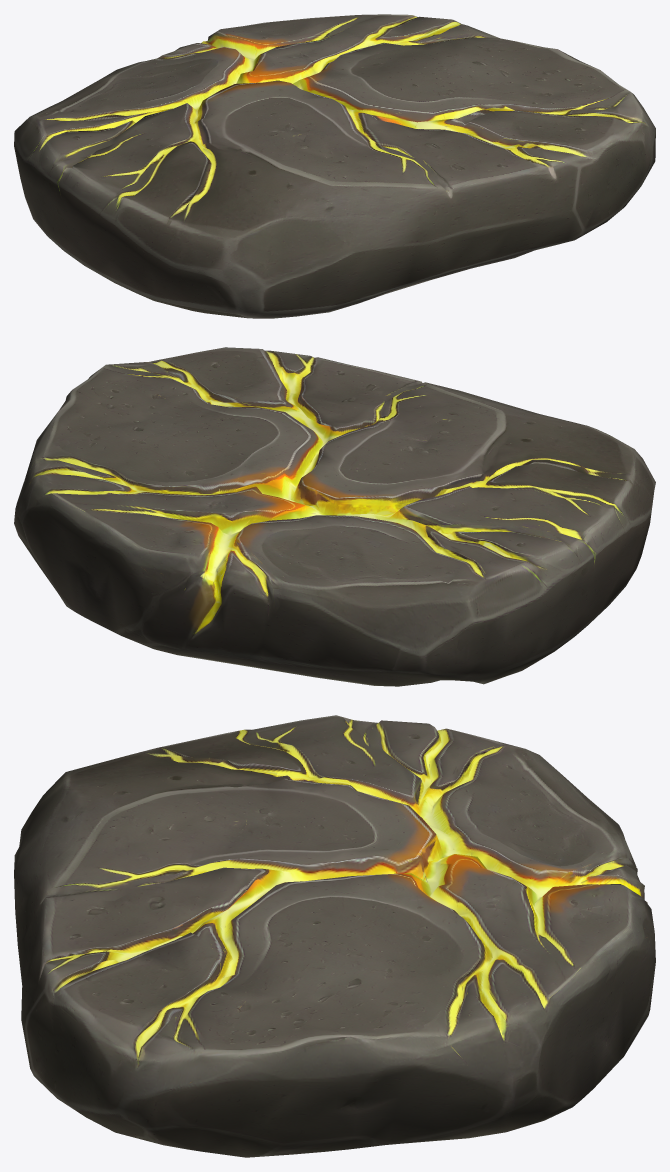
3 views of the same model, one above another, from view 1: azimuth 30°, elevation 25°; view 2: azimuth 150°, elevation 25°; view 3: azimuth 270°, elevation 25° (orthographic). The views are drawn at different scales.
Visible parts, largest first — view 1: Mesh_0; view 2: Mesh_0; view 3: Mesh_0.
Boxes of the visible parts, bbox=[...] form: Mesh_0: bbox=[14, 14, 655, 318]; Mesh_0: bbox=[14, 347, 655, 686]; Mesh_0: bbox=[14, 715, 655, 1157].
Bounding box in the file's own units: 1.91 × 0.4384 × 1.53.
Materials: 1 (1 with a texture image).
